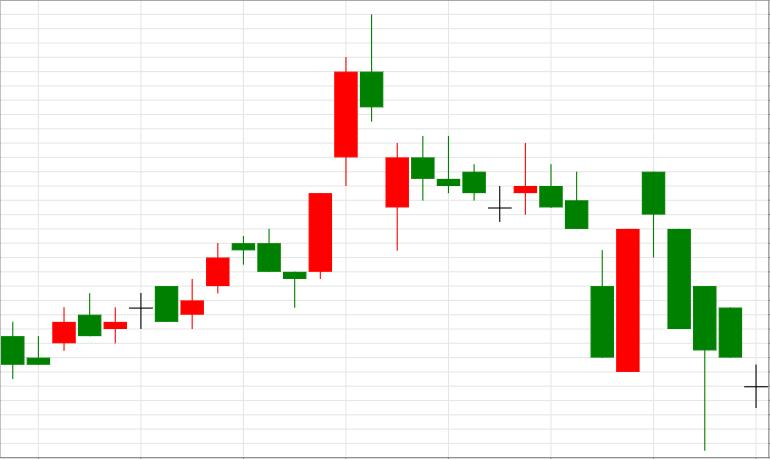bullish_engulfing_rise: (514, 143, 639, 373)
shooting_star_fall: (283, 14, 383, 308)
